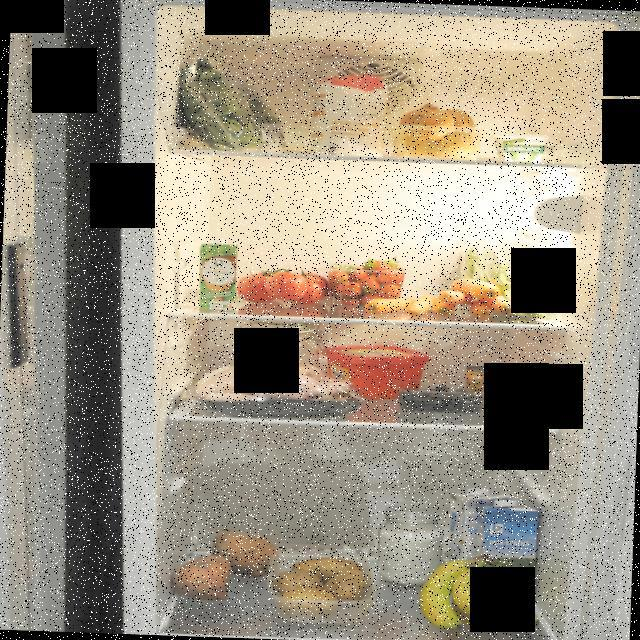Carne pollo: (189, 354, 367, 419)
Cebolla: (398, 101, 478, 160)
Leche: (477, 498, 543, 608), (444, 486, 514, 583)
Mantequilla: (318, 340, 434, 403)
Patata: (272, 552, 378, 626)
Plátano: (418, 554, 536, 634)
Tomate: (234, 262, 333, 312)
Zanahoria: (432, 278, 519, 325), (363, 295, 432, 321)
